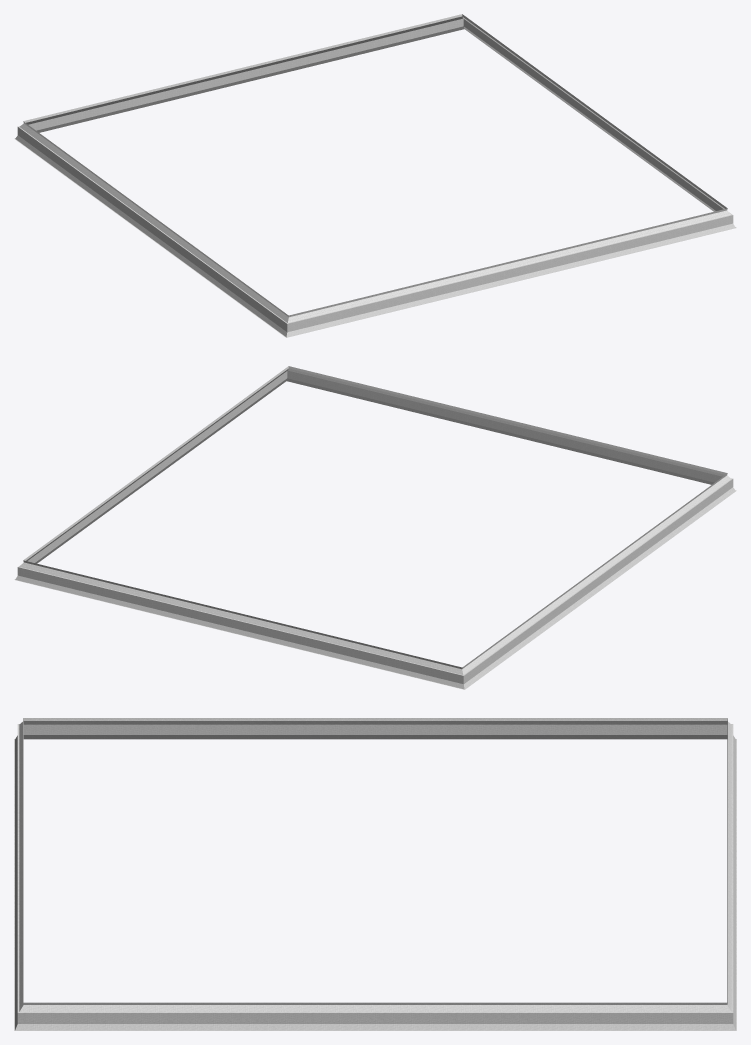
The model's file is shigaoxian02.fbx.
3 renders of one model, top to bottom at view 1: azimuth 30°, elevation 25°; view 2: azimuth 150°, elevation 25°; view 3: azimuth 270°, elevation 25°, orthographic. The views are drawn at different scales.
Parts seen in each view (by area): view 1: shigaoxian02; view 2: shigaoxian02; view 3: shigaoxian02.
Boxes of the visible parts, bbox=[...] form: shigaoxian02: bbox=[14, 14, 736, 337]; shigaoxian02: bbox=[14, 366, 736, 689]; shigaoxian02: bbox=[14, 718, 736, 1030].
Size of the model in its own units: 396 by 15.59 by 415.
